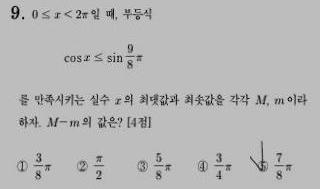choice: (251, 155, 268, 173)
not-choice: (74, 159, 89, 174), (195, 158, 209, 174), (14, 159, 28, 174), (135, 159, 148, 174)
